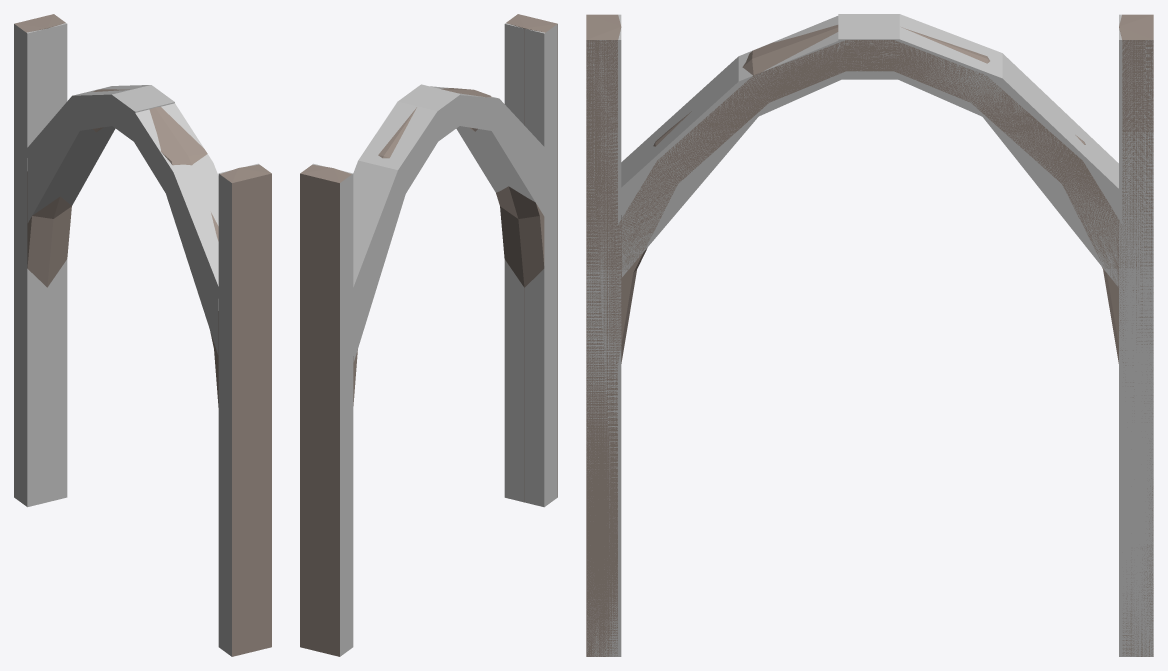
Rendered from SM_Bld_Wall_Frame_04.fbx.
The picture shows the model from 3 angles, left to right: view 1: azimuth 30°, elevation 25°; view 2: azimuth 150°, elevation 25°; view 3: azimuth 270°, elevation 25°; orthographic projection. The views are drawn at different scales.
Parts seen in each view (by area): view 1: SM_Bld_Wall_Frame_04_ConvexHulls, SM_Bld_Wall_Frame_04; view 2: SM_Bld_Wall_Frame_04_ConvexHulls, SM_Bld_Wall_Frame_04; view 3: SM_Bld_Wall_Frame_04_ConvexHulls, SM_Bld_Wall_Frame_04.
Part boxes in pixels (<box>): SM_Bld_Wall_Frame_04_ConvexHulls: <box>14,23,259,656</box>; SM_Bld_Wall_Frame_04: <box>14,14,271,656</box>; SM_Bld_Wall_Frame_04_ConvexHulls: <box>312,23,557,656</box>; SM_Bld_Wall_Frame_04: <box>300,14,557,656</box>; SM_Bld_Wall_Frame_04_ConvexHulls: <box>586,14,1153,656</box>; SM_Bld_Wall_Frame_04: <box>586,14,1153,656</box>.
Bounding box in the file's own units: 26.42 × 250 × 300.
Materials: 2 (1 with a texture image).
